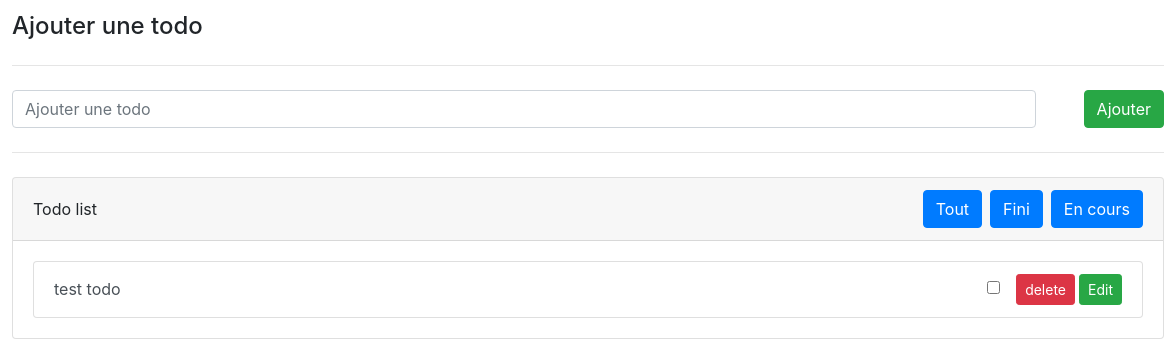
Test: <Todo /> › should edit a todo
Check: the text "test todo" is shown, box [54, 277, 121, 301]
Step 1. Click the button "Edit" → (1100, 289), box [1079, 274, 1122, 305]
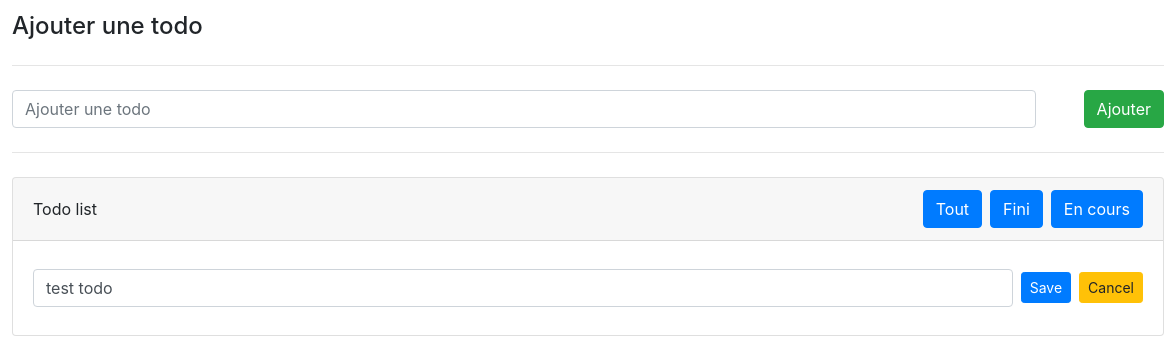
Check: the field showing "test todo" is shown
Step 2. Replace the text in the field showing "test todo" with "update todo" → (523, 288), box [33, 269, 1013, 307]
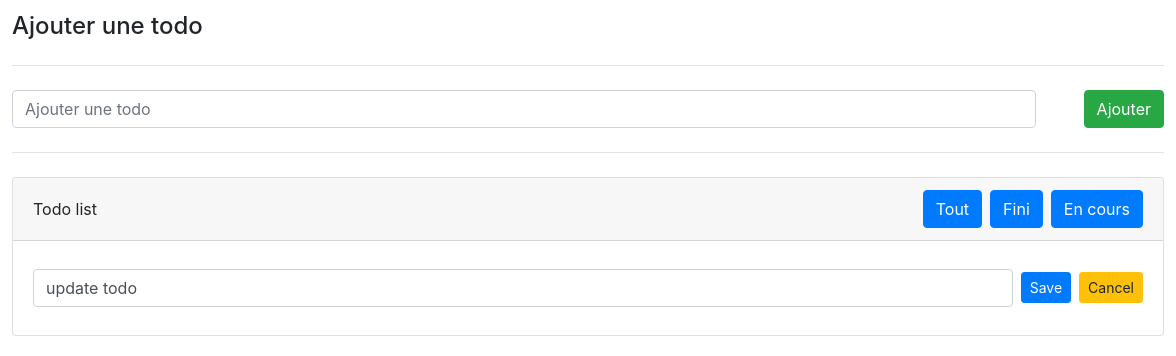
Step 3. Click the button "Save" → (1046, 288), box [1021, 272, 1071, 303]
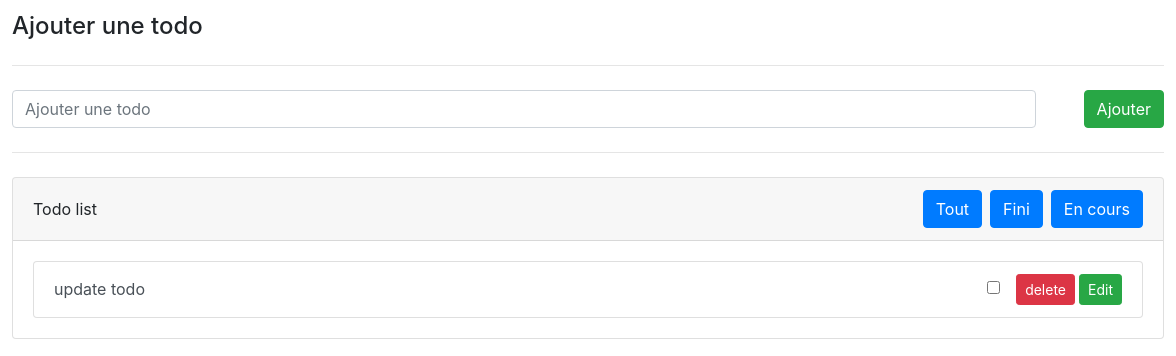
Check: the text "update todo" is shown, box [54, 277, 145, 301]
